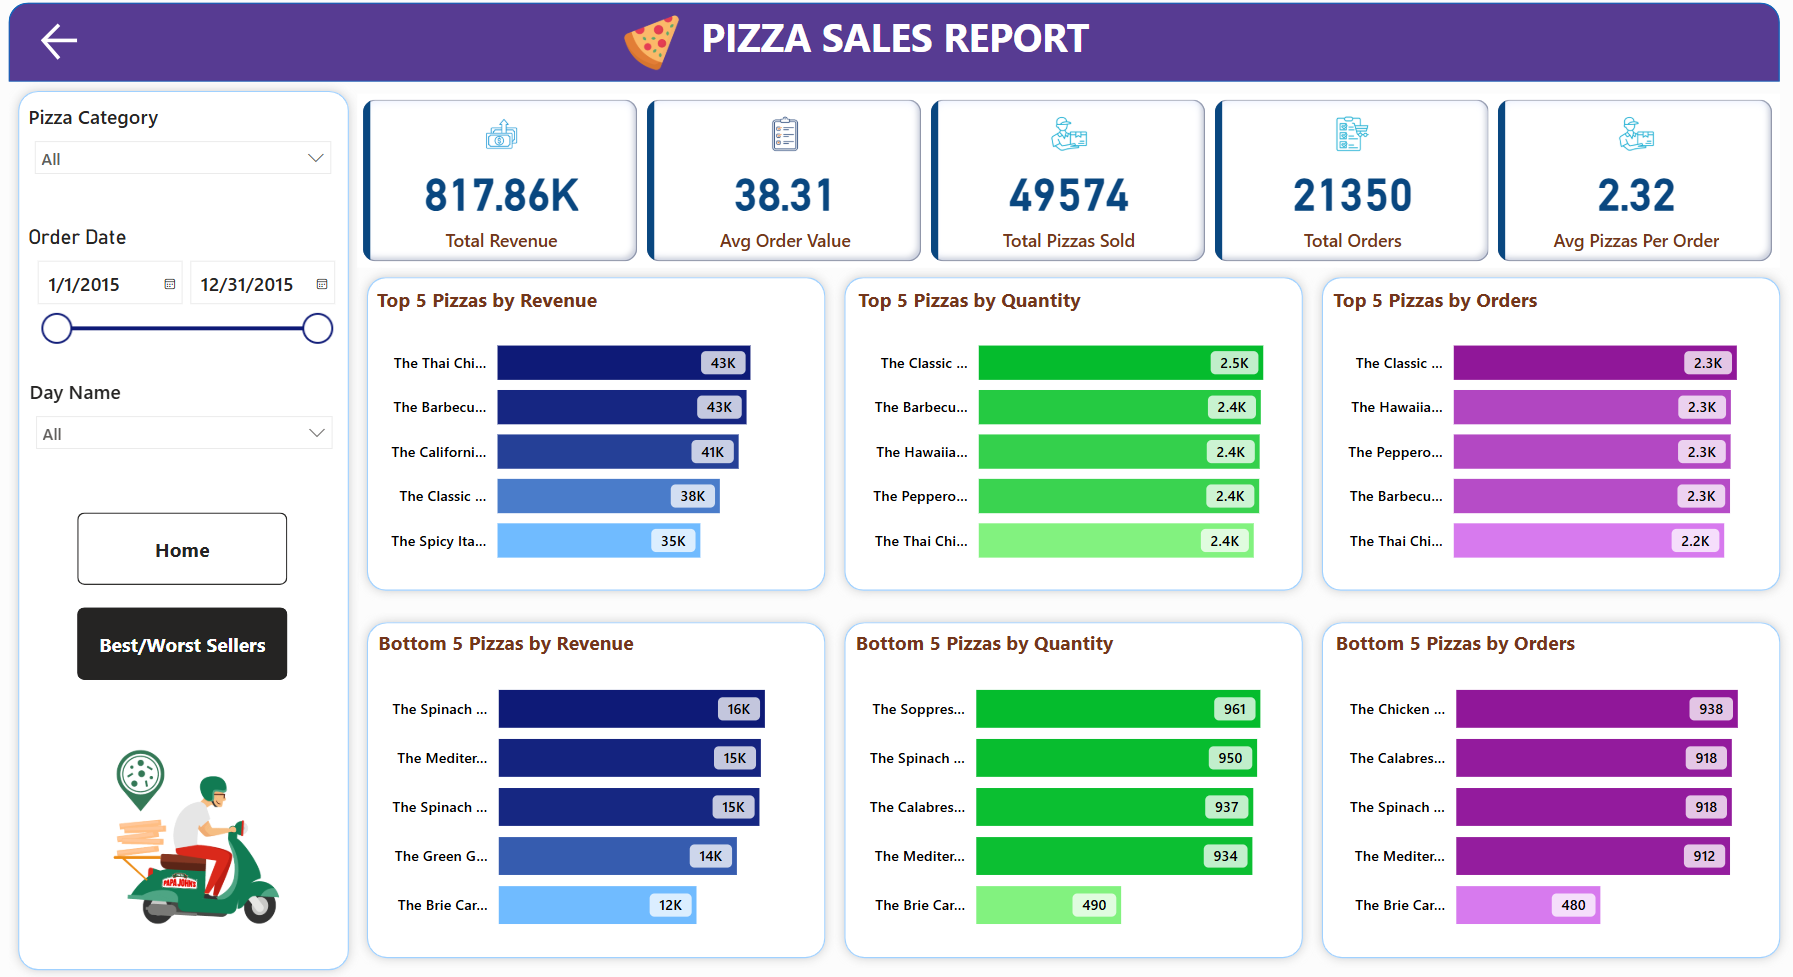

The dashboard page shown, as its layout file describes it:
{"tool":"powerbi","page":{"name":"Best/Worst Sellers","canvas":[1500,820],"ordinal":1},"visuals":[{"type":"shape","box":[14.3,75.7,290,744.3],"z":0},{"type":"cardVisual","fields":{"Data":["pizza_sales.Total Revenue","pizza_sales.Avg Order Value","pizza_sales.Total Pizzas Sold","pizza_sales.Total Orders","pizza_sales.Avg Pizzas Per Order"]},"box":[302.9,85.7,1178.6,144.3],"z":1000},{"type":"shape","box":[14.3,10,1467.1,65.7],"z":2000},{"type":"textbox","box":[547.1,12.9,404.3,65.7],"z":3000},{"type":"image","box":[518.6,7.1,57.1,72.9],"z":4000},{"type":"shape","box":[302.9,230,395.7,275.7],"z":5000},{"type":"slicer","title":"Pizza Category","fields":{"Values":["pizza_sales.pizza_category"]},"box":[25.7,92.9,265.7,82.9],"z":6000},{"type":"slicer","title":"Order Date","fields":{"Values":["pizza_sales.order_date"]},"box":[25.7,194.6,265.7,107.1],"z":7000},{"type":"slicer","title":"Day Name","fields":{"Values":["Sort Reference Table.Week Name"]},"box":[27.1,320.6,265.7,92.9],"z":8000},{"type":"shape","box":[698.6,230,395.7,275.7],"z":9000},{"type":"shape","box":[1094.3,230,395.7,275.7],"z":10000},{"type":"shape","box":[302.9,515.7,395.7,294.3],"z":11000},{"type":"shape","box":[698.6,515.7,395.7,294.3],"z":12000},{"type":"shape","box":[1094.3,515.7,395.7,294.3],"z":13000},{"type":"barChart","title":"Top 5 Pizzas by Revenue","fields":{"Category":["pizza_sales.pizza_name"],"Y":["pizza_sales.Total Revenue"]},"box":[314.3,245.7,370,245.7],"z":14000},{"type":"barChart","title":"Bottom 5 Pizzas by Revenue","fields":{"Category":["pizza_sales.pizza_name"],"Y":["pizza_sales.Total Revenue"]},"box":[315.7,528.6,370,267.1],"z":15000},{"type":"barChart","title":"Top 5 Pizzas by Quantity","fields":{"Category":["pizza_sales.pizza_name"],"Y":["pizza_sales.Total Pizzas Sold"]},"box":[712.9,245.7,370,245.7],"z":16000},{"type":"barChart","title":"Bottom 5 Pizzas by Quantity","fields":{"Category":["pizza_sales.pizza_name"],"Y":["pizza_sales.Total Pizzas Sold"]},"box":[711.4,528.6,370,267.1],"z":17000},{"type":"barChart","title":"Top 5 Pizzas by Orders","fields":{"Category":["pizza_sales.pizza_name"],"Y":["pizza_sales.Total Orders"]},"box":[1107.1,245.7,370,245.7],"z":18000},{"type":"barChart","title":"Bottom 5 Pizzas by Orders","fields":{"Category":["pizza_sales.pizza_name"],"Y":["pizza_sales.Total Orders"]},"box":[1108.6,528.6,370,267.1],"z":19000},{"type":"pageNavigator","box":[71.4,511.1,174.3,60],"z":20000},{"type":"pageNavigator","box":[71.4,432.3,174.3,60],"z":21000},{"type":"image","box":[27.1,590,264.3,220],"z":22000},{"type":"actionButton","box":[37.1,22.9,47.1,40],"z":22001}]}

Visuals, with their boxes in screenshot pixels (x1, y1, x2, y2), scaled from the page's 1500x820 canvas onto the 1793x977 screenshot:
shape: detection(17, 90, 364, 976)
cardVisual - pizza_sales.Total Revenue x pizza_sales.Avg Order Value: detection(362, 102, 1771, 274)
shape: detection(17, 12, 1771, 90)
textbox: detection(654, 15, 1137, 94)
image: detection(620, 8, 688, 95)
shape: detection(362, 274, 835, 603)
"Pizza Category" slicer: detection(31, 111, 348, 209)
"Order Date" slicer: detection(31, 232, 348, 359)
"Day Name" slicer: detection(32, 382, 350, 493)
shape: detection(835, 274, 1308, 603)
shape: detection(1308, 274, 1781, 603)
shape: detection(362, 614, 835, 965)
shape: detection(835, 614, 1308, 965)
shape: detection(1308, 614, 1781, 965)
"Top 5 Pizzas by Revenue" barChart: detection(376, 293, 818, 585)
"Bottom 5 Pizzas by Revenue" barChart: detection(377, 630, 820, 948)
"Top 5 Pizzas by Quantity" barChart: detection(852, 293, 1294, 585)
"Bottom 5 Pizzas by Quantity" barChart: detection(850, 630, 1293, 948)
"Top 5 Pizzas by Orders" barChart: detection(1323, 293, 1766, 585)
"Bottom 5 Pizzas by Orders" barChart: detection(1325, 630, 1767, 948)
pageNavigator: detection(85, 609, 294, 680)
pageNavigator: detection(85, 515, 294, 587)
image: detection(32, 703, 348, 965)
actionButton: detection(44, 27, 101, 75)
